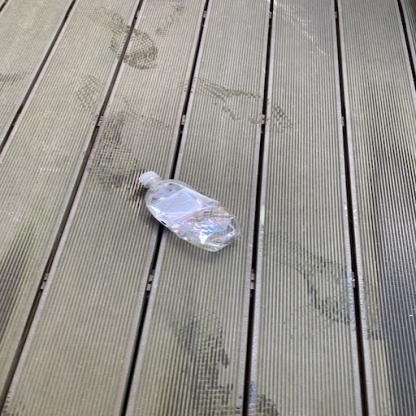trash: (134, 168, 245, 255)
